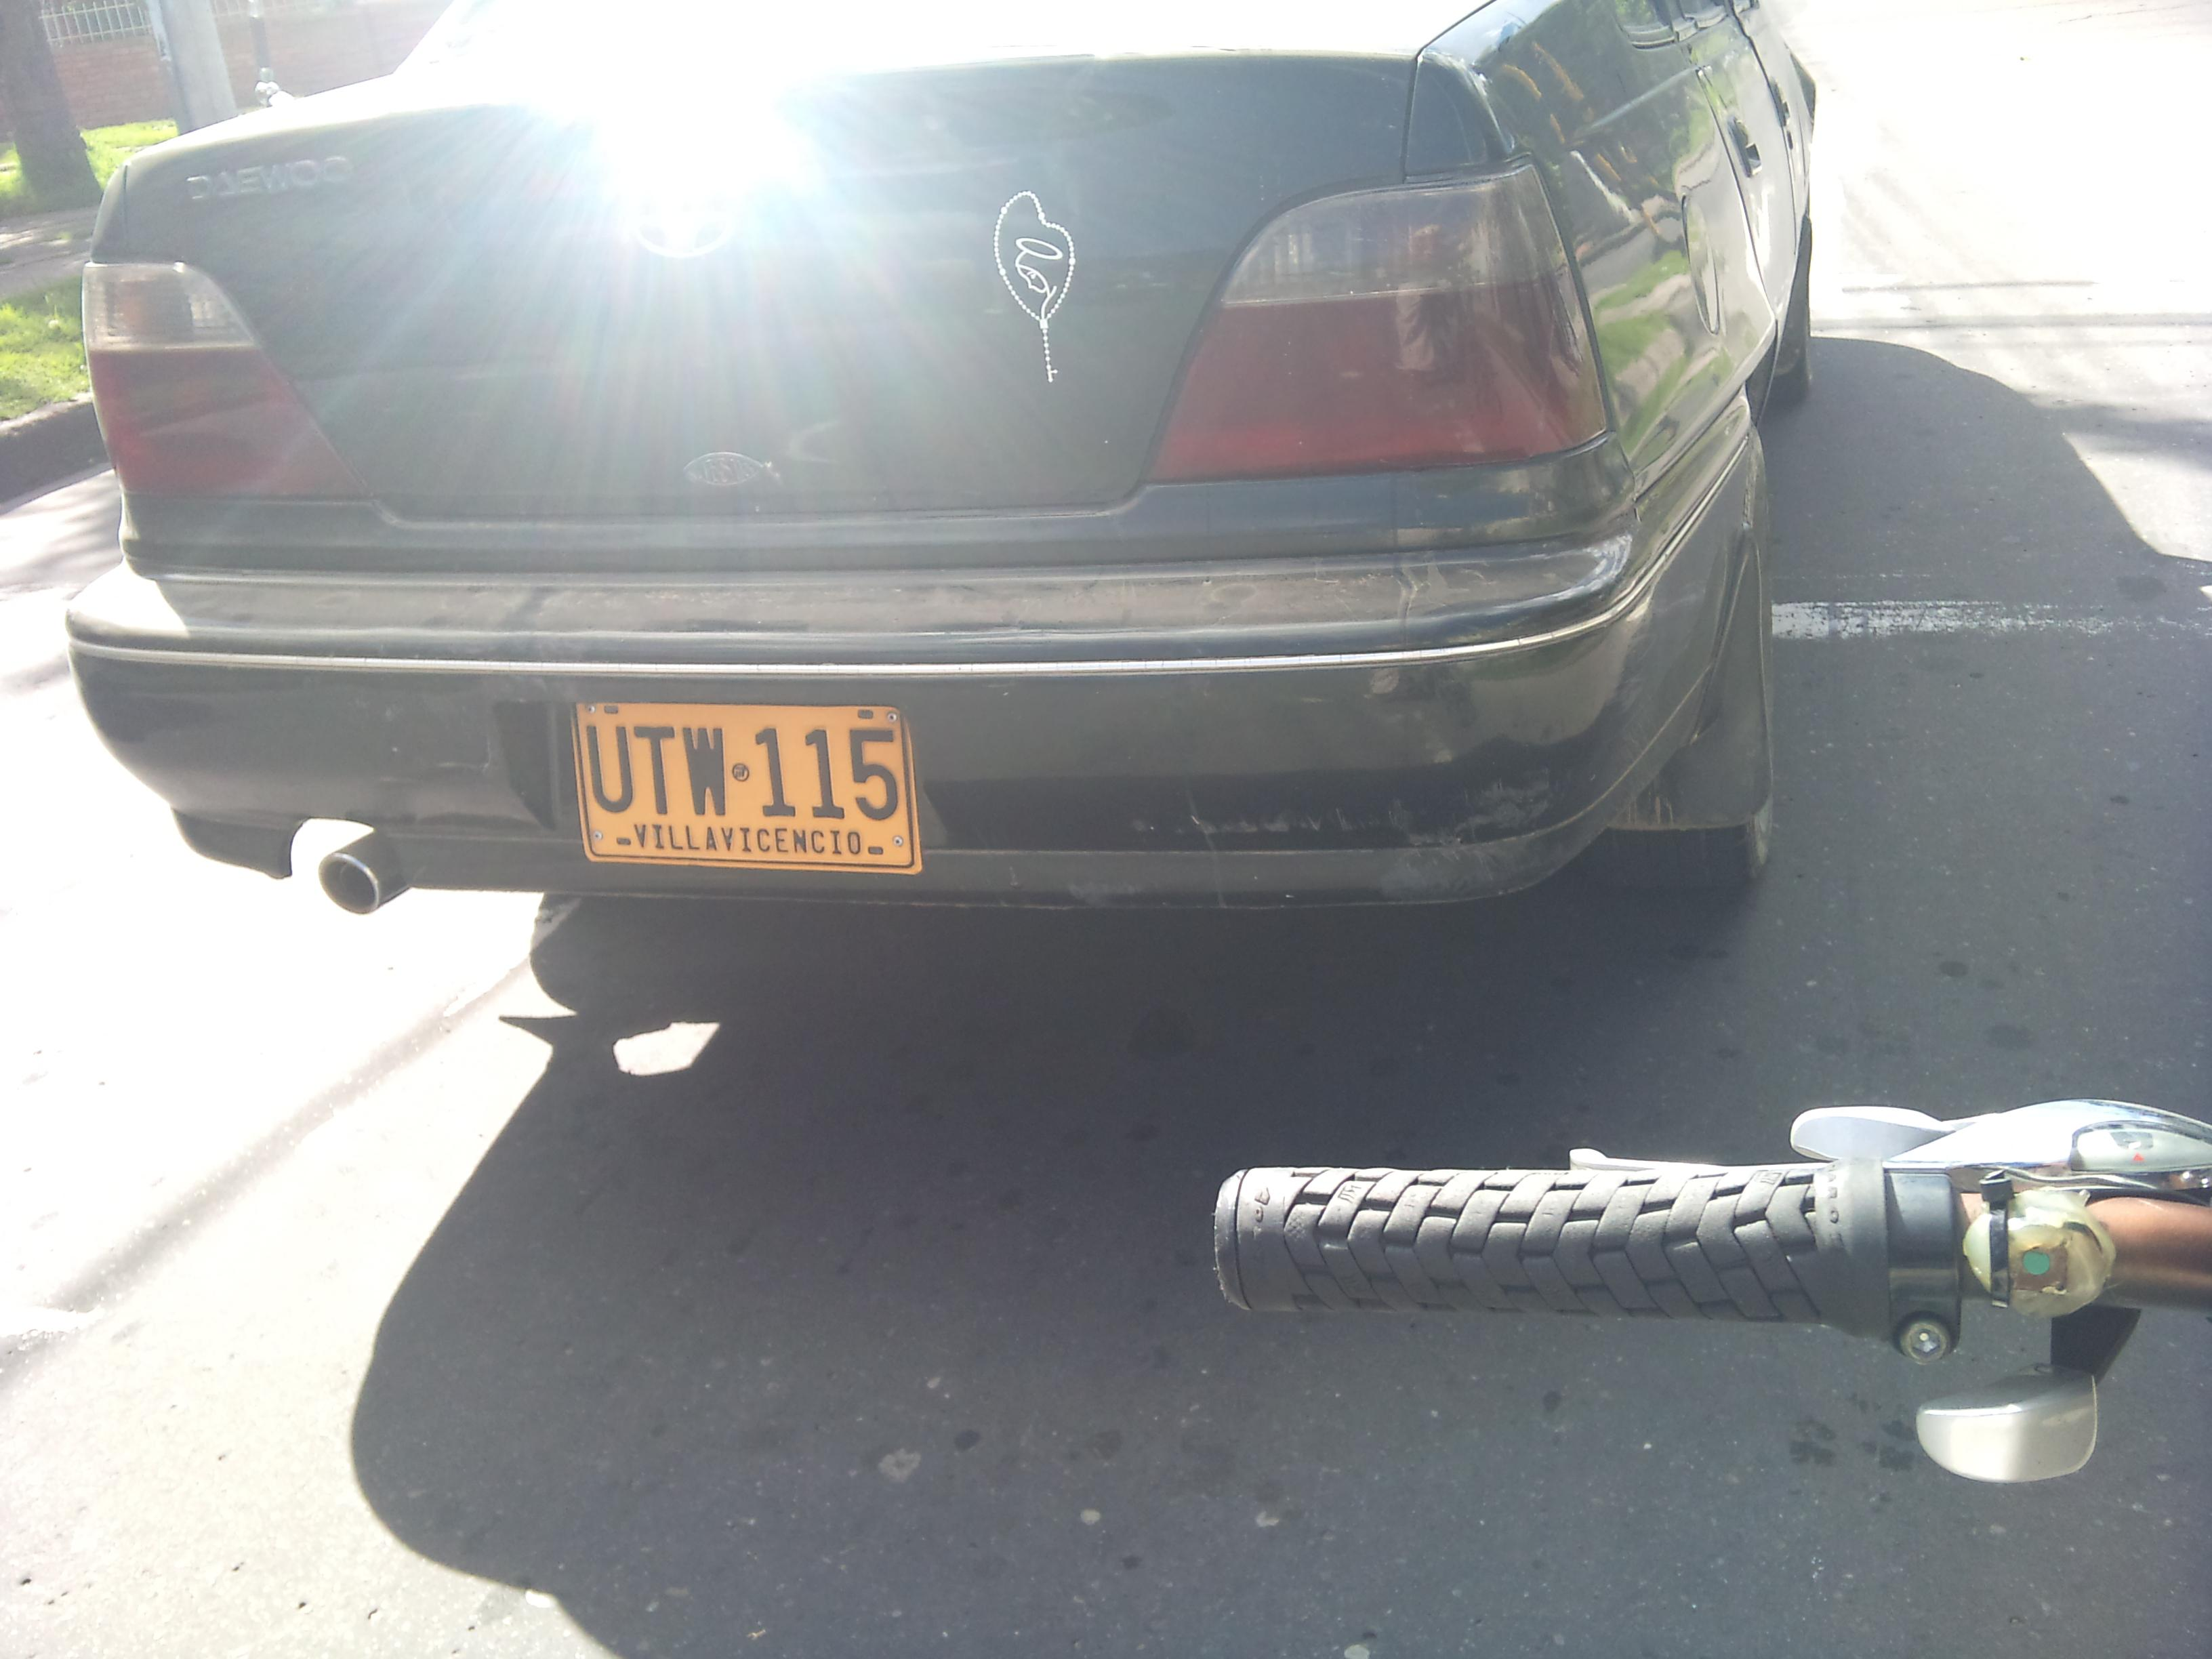placas: (562, 682, 935, 881)
